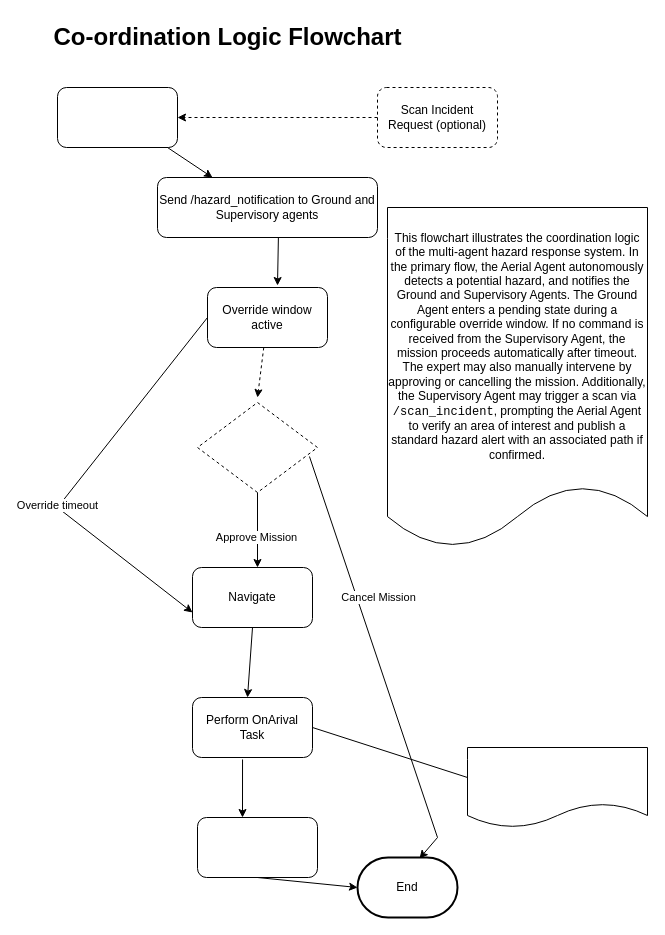
This 665x935 diagram has some shape labels left out. Here are the shapes that lost their labels. From the top down, the centre of each, then its label:
At (117,117): "Hazard detected".
At (257,447): "Optional Manual In tervention".
At (557,787): "Task to be performed depends on the hazard. Details are in the accompanying text".
At (257,847): "Notify Mission Status to Supervisory Agent".
